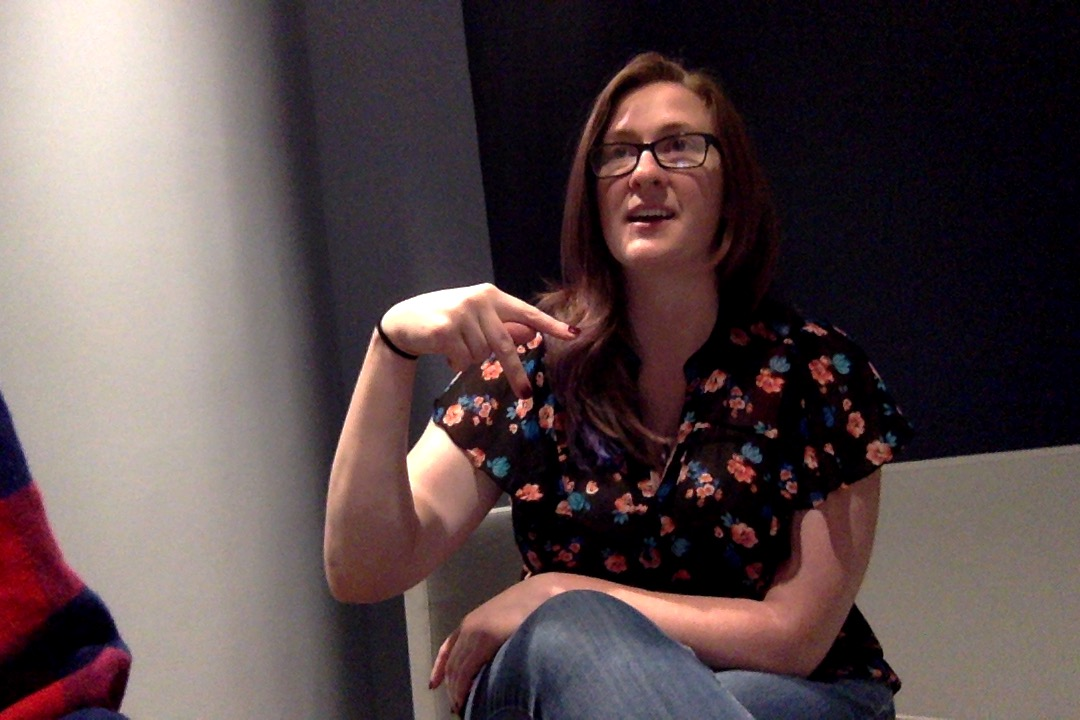p: (354, 272, 586, 446)
